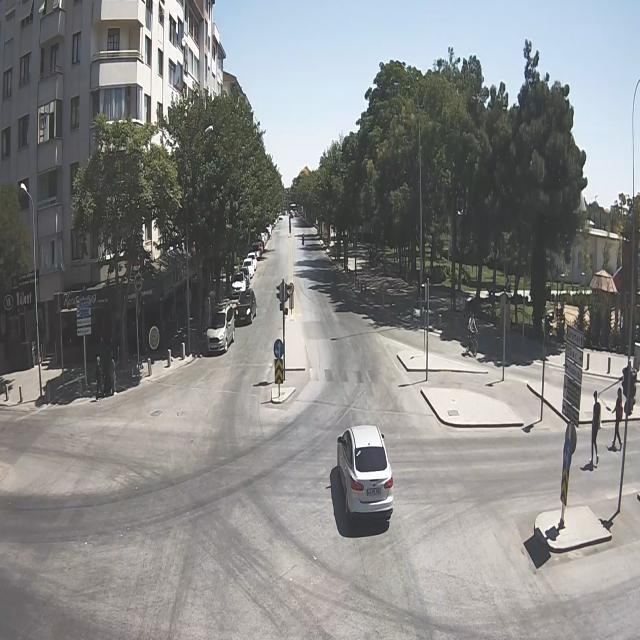Car: (337, 423, 396, 523), (206, 306, 237, 353), (233, 288, 257, 326), (230, 270, 247, 297), (242, 257, 254, 278)
